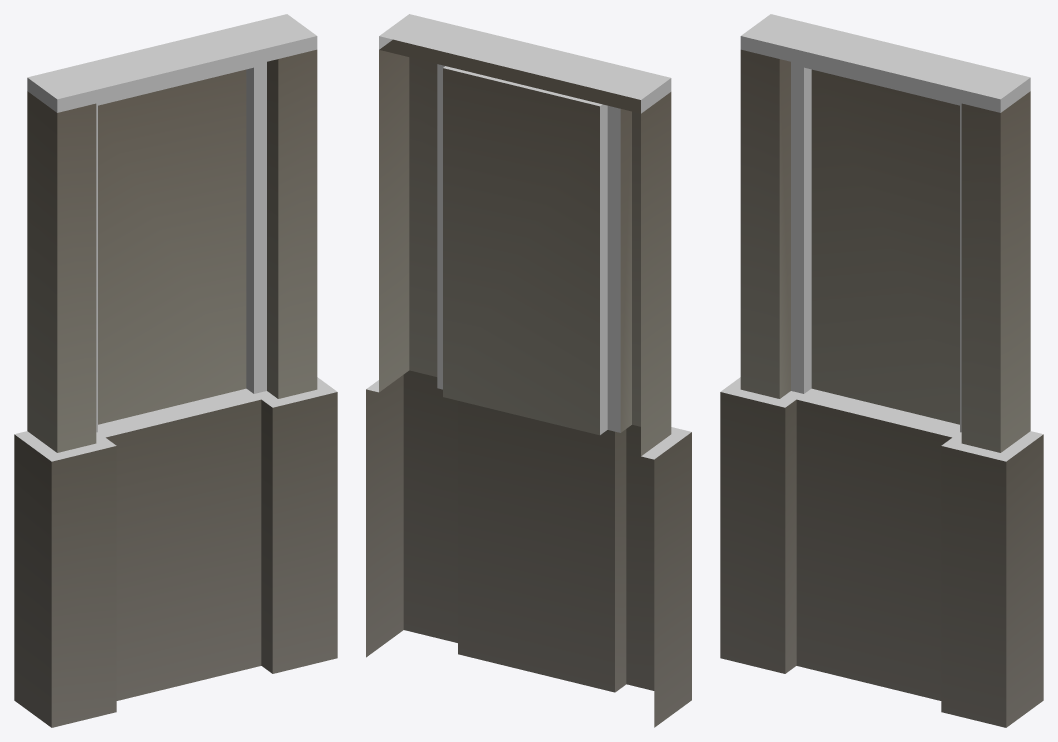
Rendered from Front_12.fbx.
The picture shows the model from 3 angles, left to right: view 1: azimuth 30°, elevation 25°; view 2: azimuth 150°, elevation 25°; view 3: azimuth 330°, elevation 25°; orthographic projection.
Parts seen in each view (by area): view 1: Front_J.001, Front_J.006, Front_J.003, Front_J.009, Front_J.004, Front_J.008, Front_J.002, Front_J.007, Front_J.005; view 2: Front_J.001, Front_J.006, Front_J.003, Front_J.009, Front_J.004, Front_J.007, Front_J.002, Front_J.008; view 3: Front_J.001, Front_J.006, Front_J.003, Front_J.009, Front_J.004, Front_J.008, Front_J.002, Front_J.007, Front_J.005.
Part boxes in pixels (x1,y1,x2,y2): Front_J.001: (14,392,337,727); Front_J.006: (98,69,246,424); Front_J.003: (27,49,317,452); Front_J.009: (27,14,316,99); Front_J.004: (96,62,266,432); Front_J.008: (27,36,317,112); Front_J.002: (14,377,337,461); Front_J.007: (246,67,253,393); Front_J.005: (98,388,253,431); Front_J.001: (366,370,691,727); Front_J.006: (443,68,599,435); Front_J.003: (379,39,671,455); Front_J.009: (379,14,670,99); Front_J.004: (437,64,620,432); Front_J.007: (443,66,607,434); Front_J.002: (366,380,691,459); Front_J.008: (379,36,671,113); Front_J.001: (720,392,1043,727); Front_J.006: (811,69,959,424); Front_J.003: (740,49,1030,452); Front_J.009: (741,14,1030,99); Front_J.004: (791,62,961,432); Front_J.008: (740,36,1030,112); Front_J.002: (720,377,1043,461); Front_J.007: (804,67,811,393); Front_J.005: (804,388,959,431).
Size of the model in its own units: 220 by 456 by 50.
